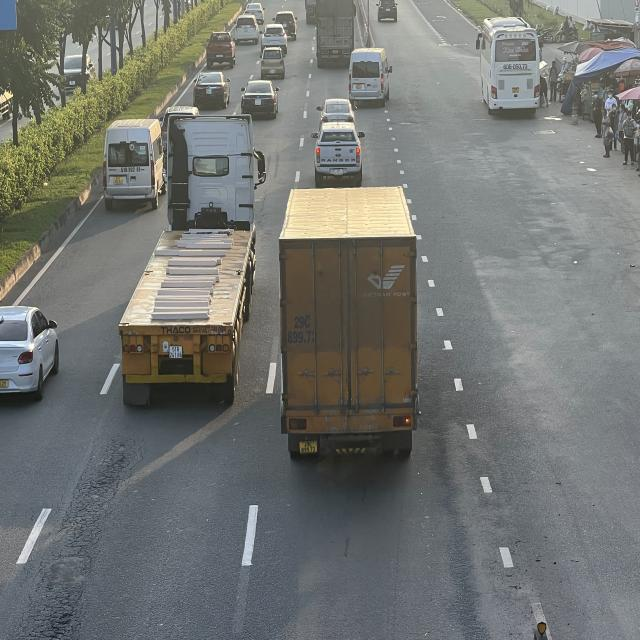car: (0, 305, 57, 403), (314, 128, 368, 188), (242, 77, 282, 118), (316, 100, 360, 136), (194, 69, 232, 108), (207, 30, 237, 67), (260, 45, 287, 79)
coach: (479, 20, 541, 117)
container: (117, 114, 265, 410)
truck: (282, 186, 423, 468), (316, 0, 356, 69)
van: (104, 115, 162, 206), (347, 47, 392, 106)
